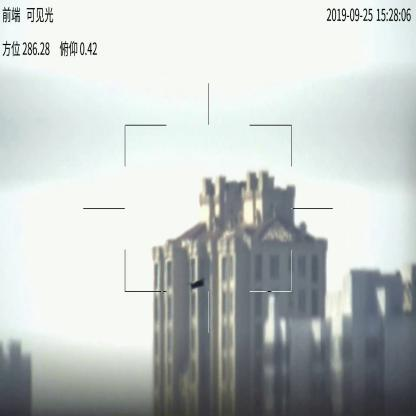uav: (190, 278, 204, 289)
